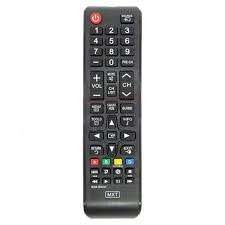remote control: (79, 7, 146, 219)
